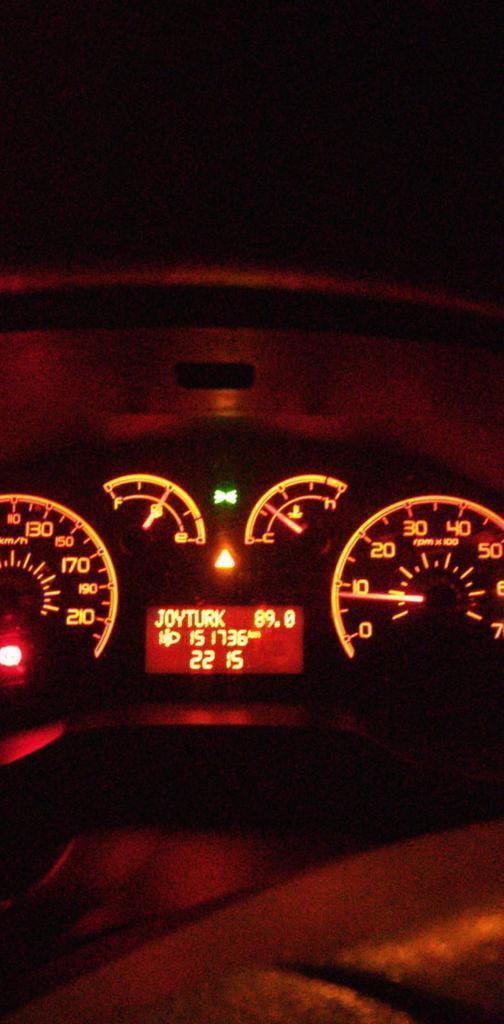,: (273, 620, 281, 629)
0: (283, 608, 296, 629)
1: (210, 629, 216, 646), (225, 650, 230, 669), (158, 629, 163, 647), (189, 629, 194, 646)
2: (190, 649, 202, 670), (202, 648, 214, 669)
3: (227, 627, 237, 646)
5: (231, 649, 243, 669), (194, 629, 205, 646)
6: (237, 628, 248, 646)
7: (216, 628, 226, 646)
8: (254, 608, 265, 628)
9: (265, 608, 275, 628)
X: (215, 608, 227, 627), (153, 608, 164, 628), (194, 608, 205, 627), (204, 608, 215, 627), (184, 608, 194, 628), (164, 608, 174, 627), (175, 608, 184, 627), (253, 630, 261, 639), (248, 629, 253, 639)
odometer: (139, 600, 310, 679)
